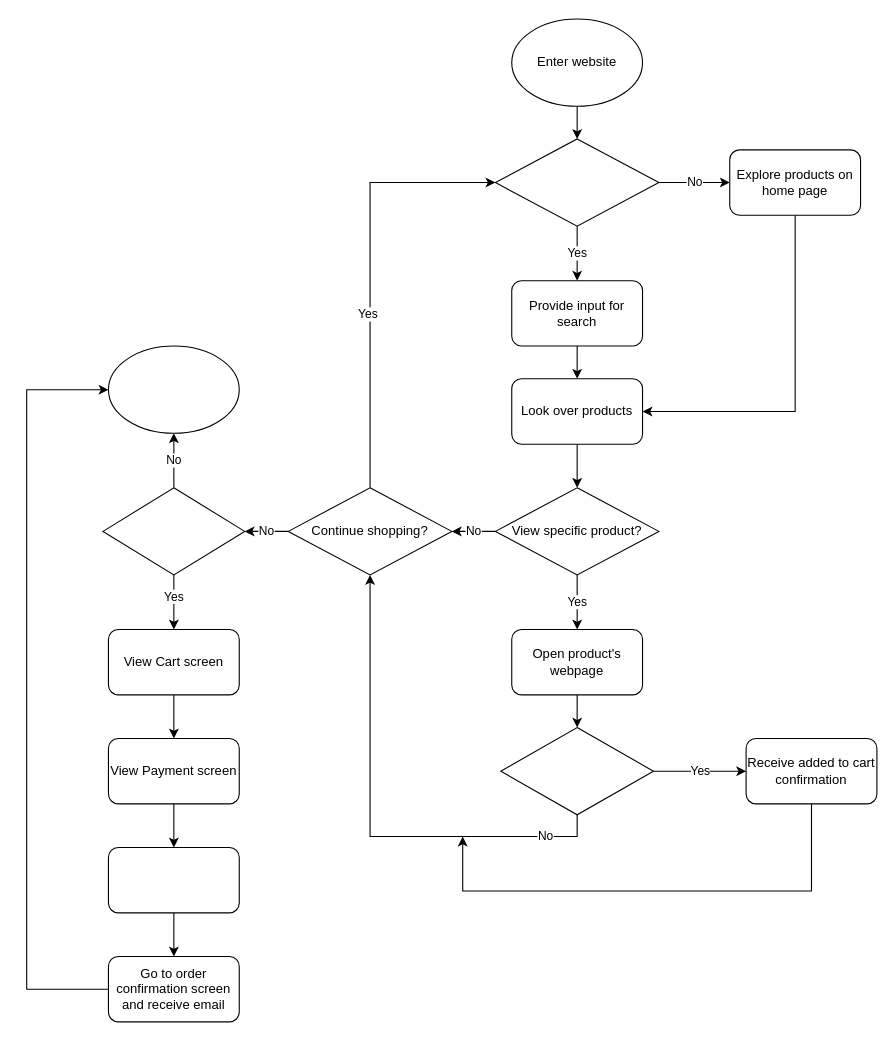
Image size: 896x1041. Some labels were removed from this diagram. Each missing label, with the centre of its shape:
"Add to cart?" belongs at (x=576, y=770).
"Checkout?" belongs at (x=173, y=531).
"Leave website" belongs at (x=173, y=389).
"Search for product?" belongs at (x=576, y=182).
"User gives input of payment info" belongs at (x=173, y=879).
